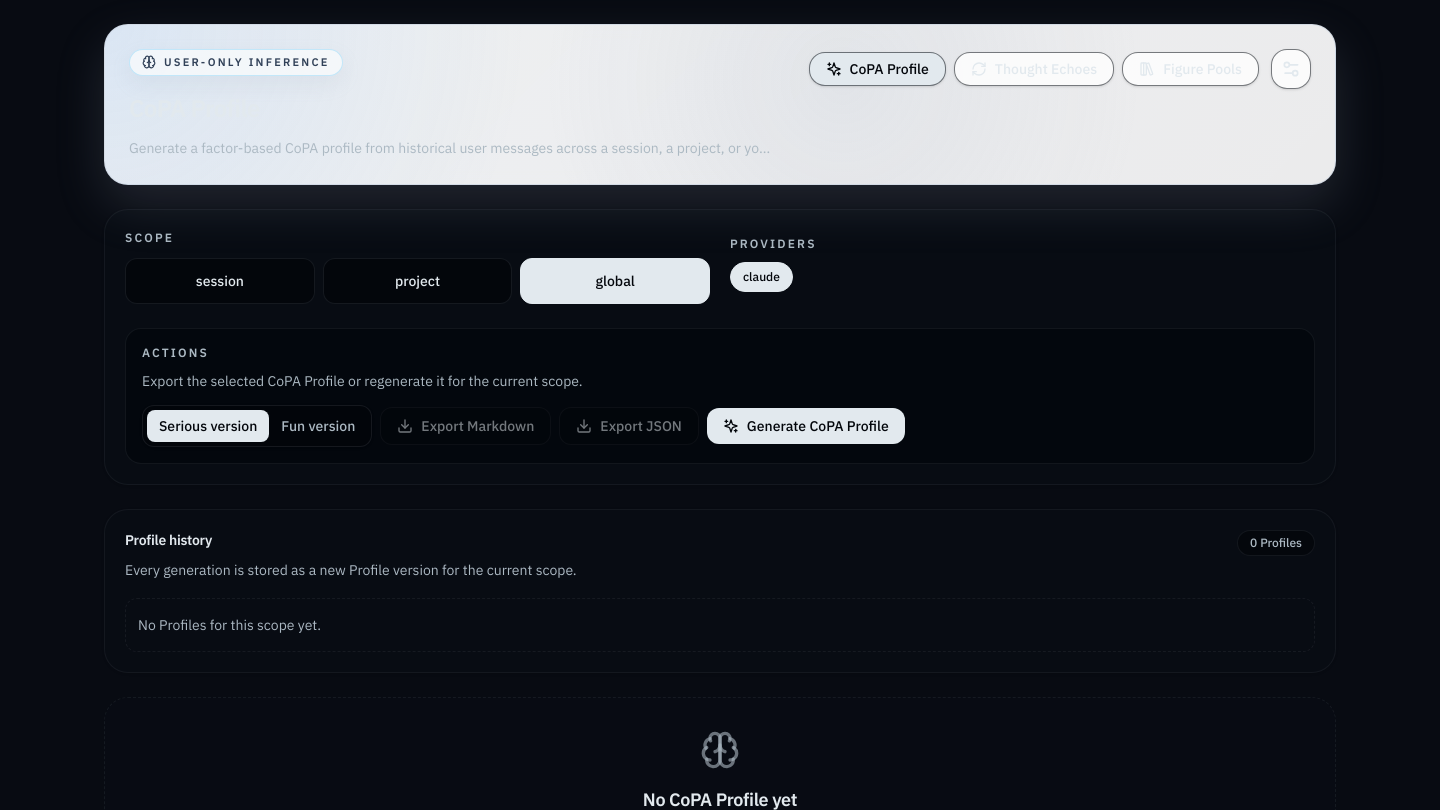
CopaProfilePage resonance layout › does not render a duplicate next-generation pool summary card in thought echoes
Click the button "Thought Echoes" at {"x": 1034, "y": 69}, box [954,52,1114,86]
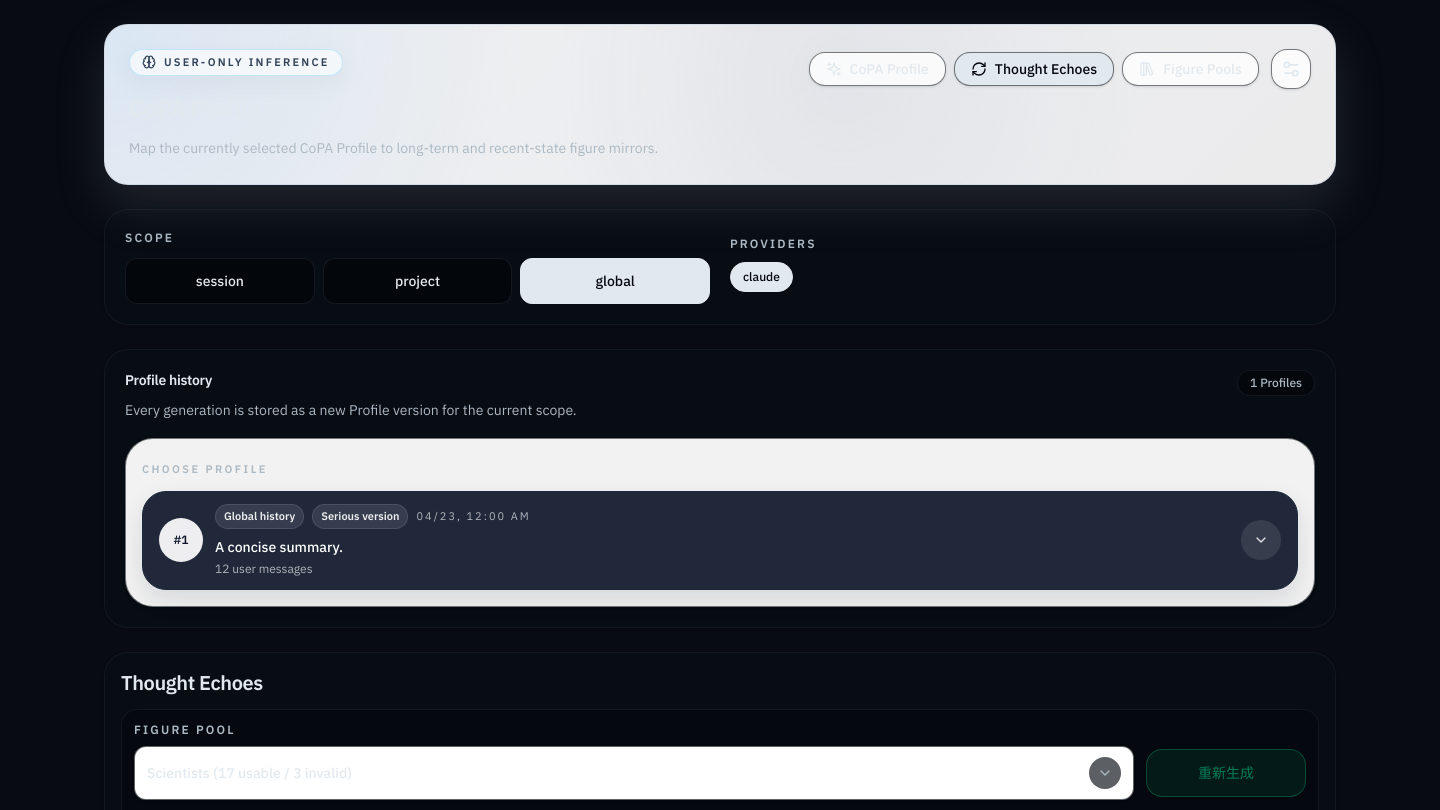
Result: the text "Figure pool" is shown at [134,722,236,737]
